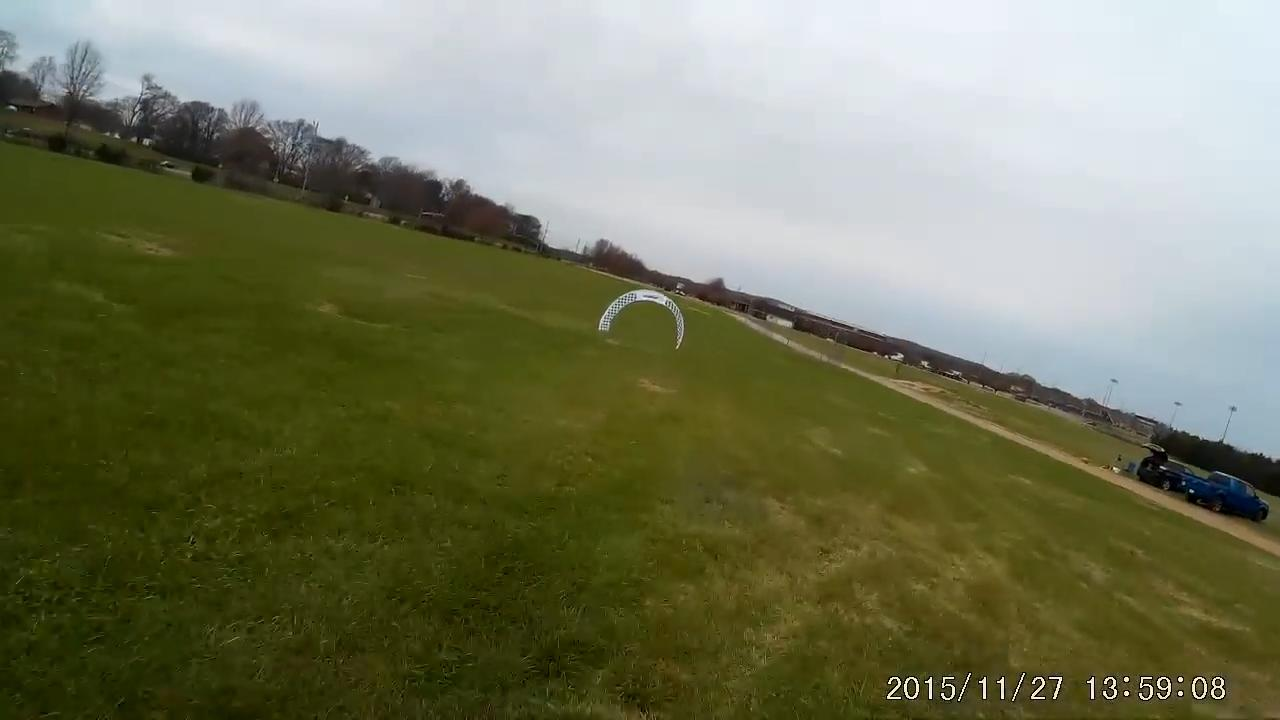gate: (596, 287, 687, 352)
